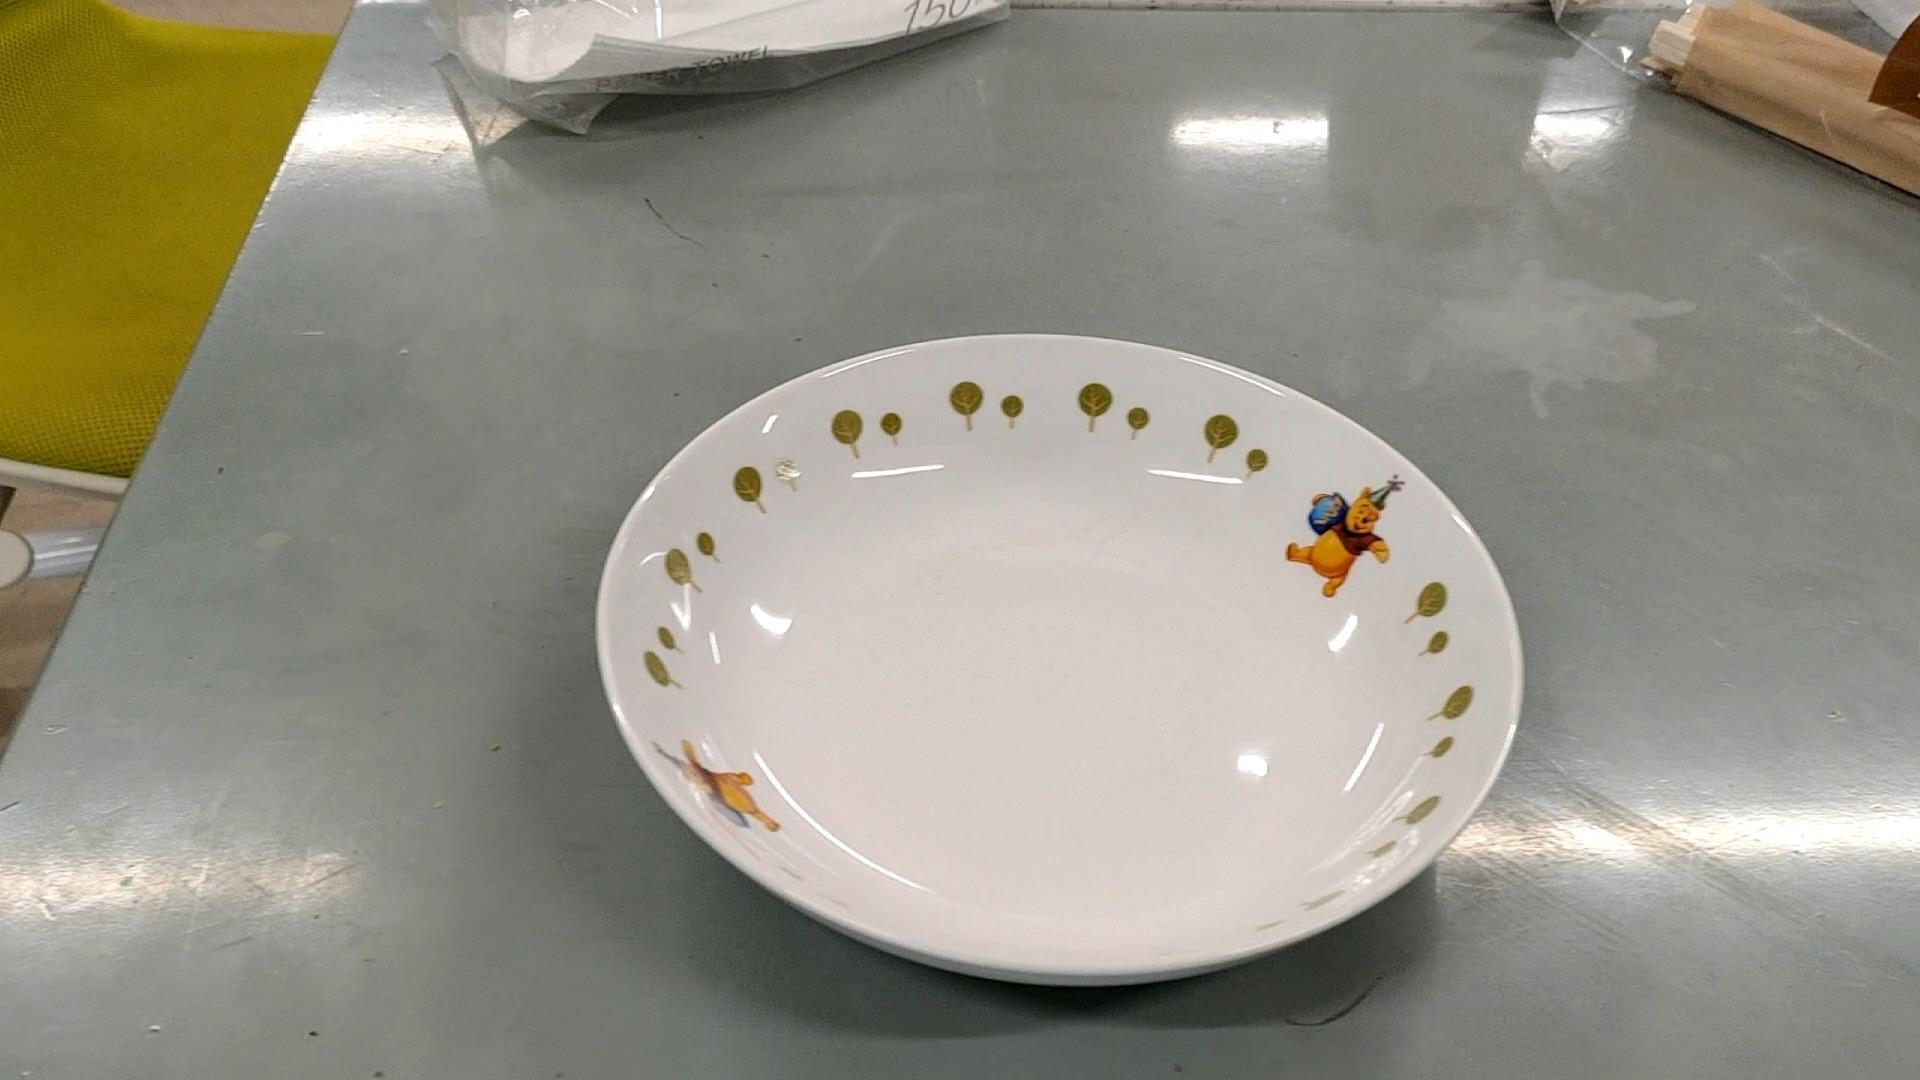plate: (596, 334, 1519, 984)
